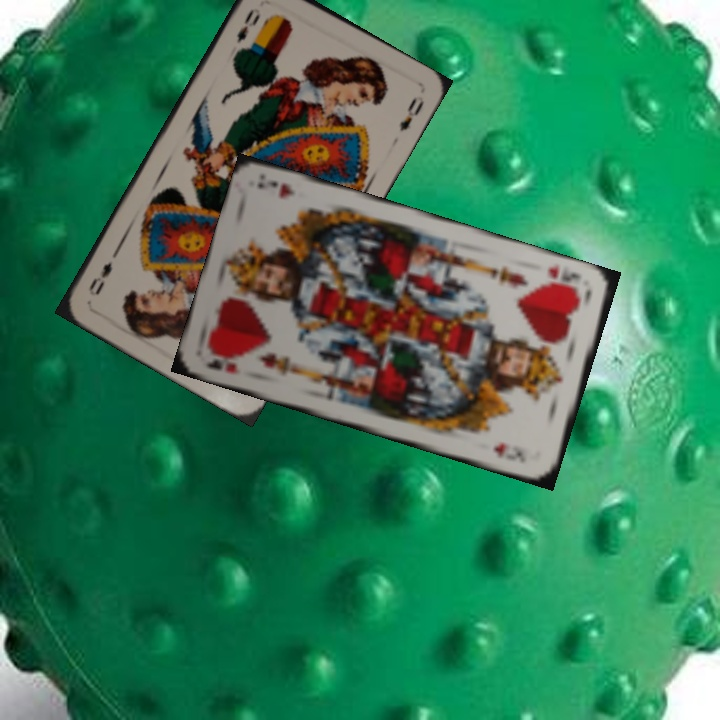EO: (232, 3, 264, 46)
HK: (544, 260, 585, 296), (201, 355, 244, 376)
